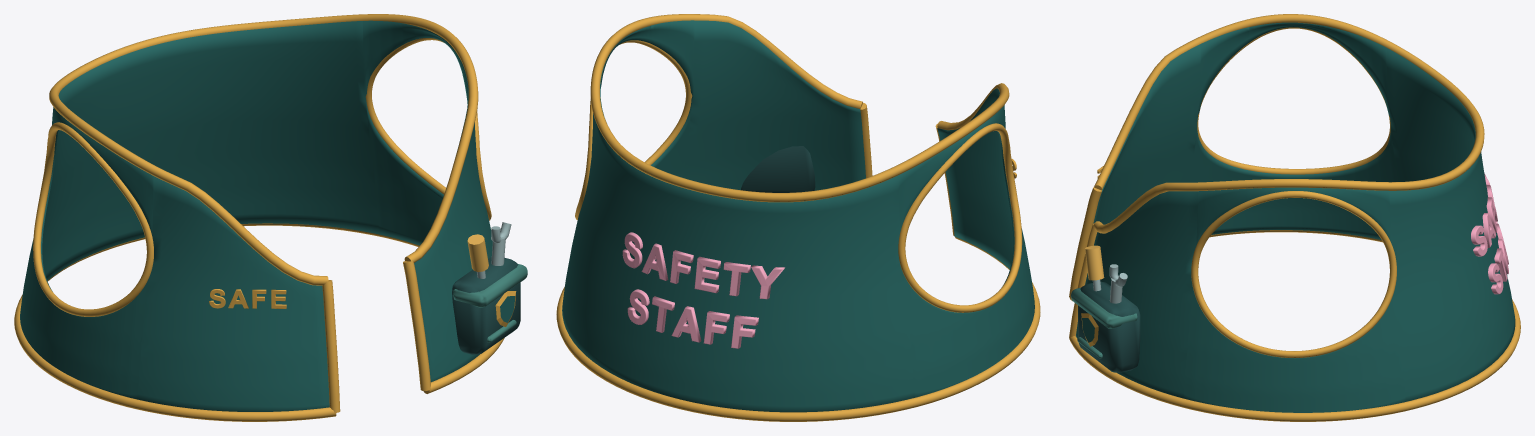
The model's file is safe-chance.glb.
3 views of the same model, side by side, from view 1: azimuth 30°, elevation 25°; view 2: azimuth 150°, elevation 25°; view 3: azimuth 270°, elevation 25° (orthographic). The views are drawn at different scales.
Parts seen in each view (by area): view 1: Short open work vest display, Bound neckline display, Bound hem display, Bound armhole R display, Canvas tool pouch display, Bound armhole L display, Bound front opening L display, Bound front opening R display, Tool pouch top binding display, SAFE chest lettering display, Screwdriver grip display, Safe Chance shield pin display; view 2: Short open work vest display, Bound neckline display, Bound hem display, Bound armhole R display, SAFETY back lettering display, STAFF back lettering display, Canvas tool pouch display, Bound armhole L display, Bound front opening L display; view 3: Short open work vest display, Bound neckline display, Bound hem display, Bound armhole L display, Canvas tool pouch display, Bound armhole R display, SAFETY back lettering display, Bound front opening R display, Tool pouch top binding display, STAFF back lettering display, Screwdriver grip display, Bound front opening L display (+1 smaller).
Part boxes in pixels (<box>): Short open work vest display: <box>20,20,492,411</box>; Bound neckline display: <box>49,14,478,285</box>; Bound hem display: <box>14,223,504,421</box>; Bound armhole R display: <box>33,122,153,316</box>; Canvas tool pouch display: <box>452,257,520,354</box>; Bound armhole L display: <box>365,38,491,220</box>; Bound front opening L display: <box>403,260,430,390</box>; Bound front opening R display: <box>322,280,340,412</box>; Tool pouch top binding display: <box>453,264,527,307</box>; SAFE chest lettering display: <box>209,289,286,308</box>; Screwdriver grip display: <box>467,234,488,272</box>; Safe Chance shield pin display: <box>495,291,516,326</box>; Short open work vest display: <box>562,20,1034,412</box>; Bound neckline display: <box>590,14,1009,202</box>; Bound hem display: <box>556,237,1040,421</box>; Bound armhole R display: <box>898,123,1022,312</box>; SAFETY back lettering display: <box>622,232,784,299</box>; STAFF back lettering display: <box>627,289,758,348</box>; Canvas tool pouch display: <box>741,146,815,192</box>; Bound armhole L display: <box>575,40,692,219</box>; Bound front opening L display: <box>860,103,872,178</box>; Short open work vest display: <box>1076,22,1515,412</box>; Bound neckline display: <box>1094,14,1484,233</box>; Bound hem display: <box>1069,230,1520,421</box>; Bound armhole L display: <box>1191,191,1396,357</box>; Canvas tool pouch display: <box>1078,281,1140,372</box>; Bound armhole R display: <box>1197,27,1390,174</box>; SAFETY back lettering display: <box>1471,173,1497,256</box>; Bound front opening R display: <box>1069,187,1101,298</box>; Tool pouch top binding display: <box>1071,287,1137,328</box>; STAFF back lettering display: <box>1488,221,1508,294</box>; Screwdriver grip display: <box>1085,245,1104,280</box>; Bound front opening L display: <box>1069,223,1097,338</box>.
Bounding box in the file's own units: 2.01 × 1.14 × 1.98.
